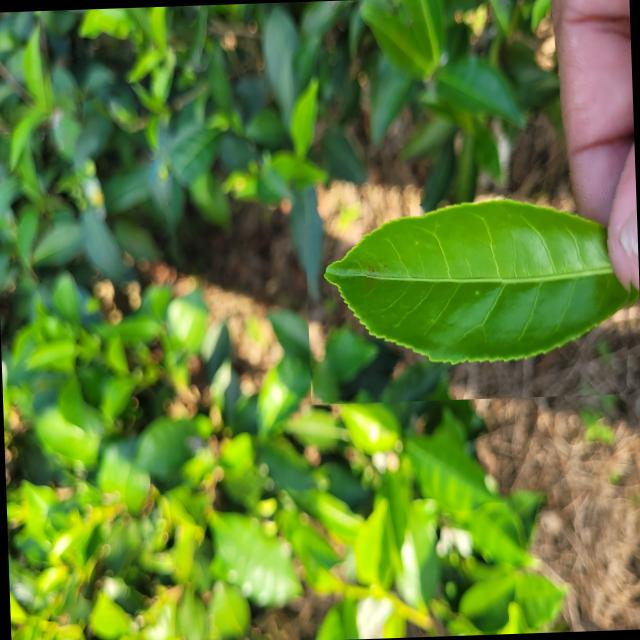Category B 2-4 days: (303, 160, 640, 403)
